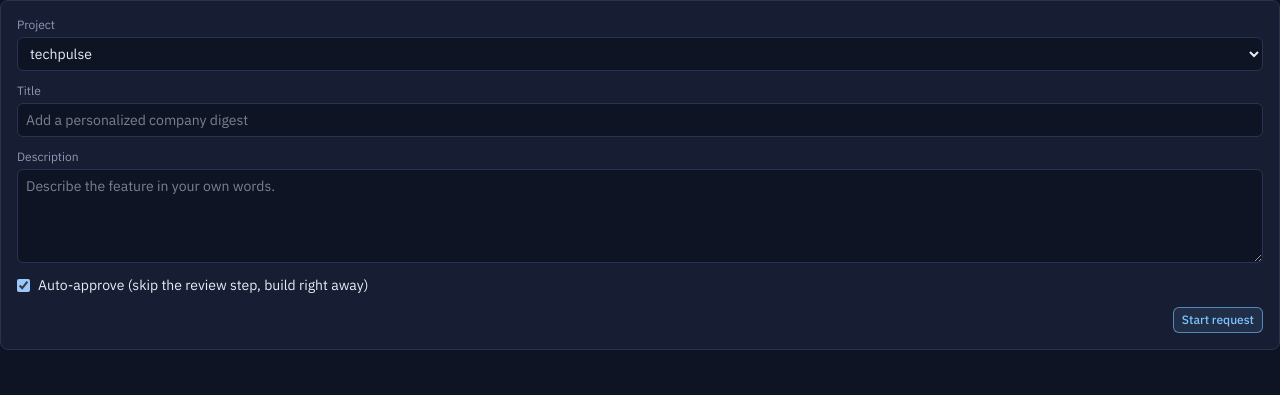
Scenario: NewRequestForm › rejects submission with a blank title
What coordinates should you click on to do the following:
click the button "Start request"
I would click on:
 (1218, 320)
Its box is [1173,307,1263,333].
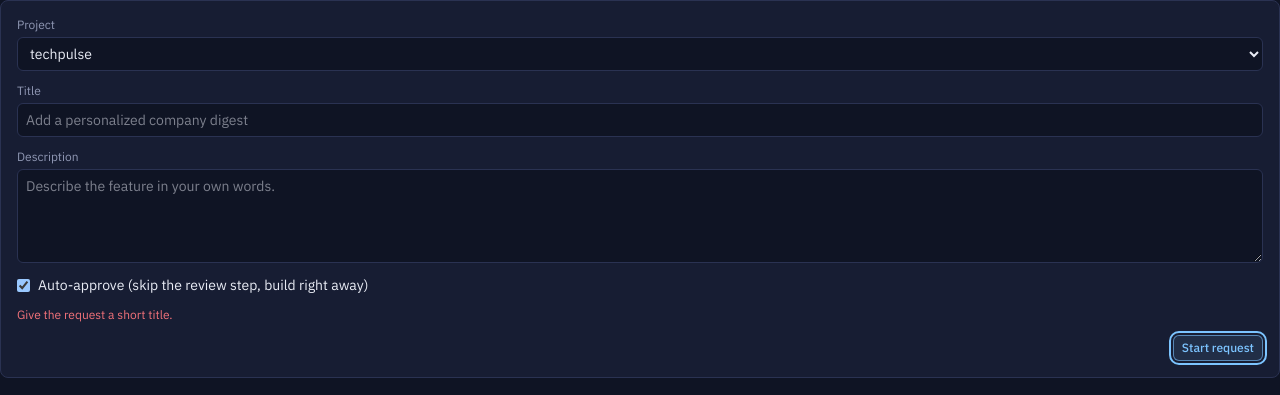
Check: the text "Give the request a short title." is shown, box [17,307,172,322]
